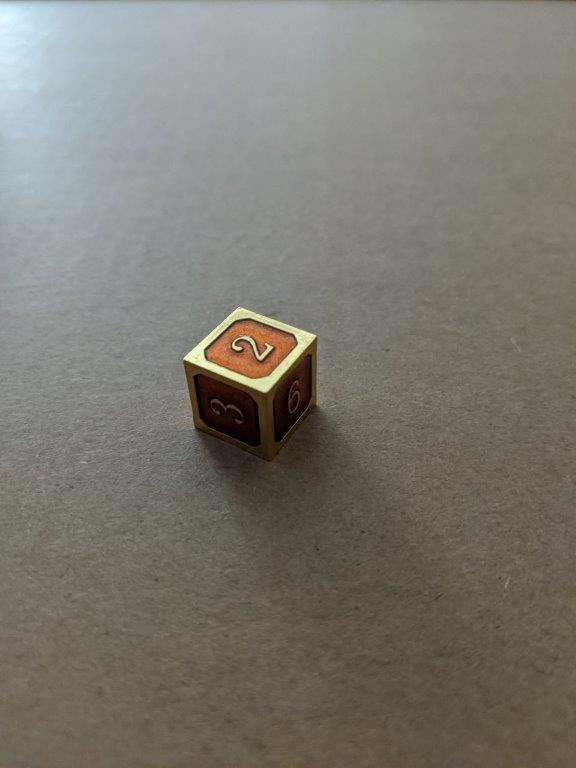d6-2: (183, 306, 318, 462)
